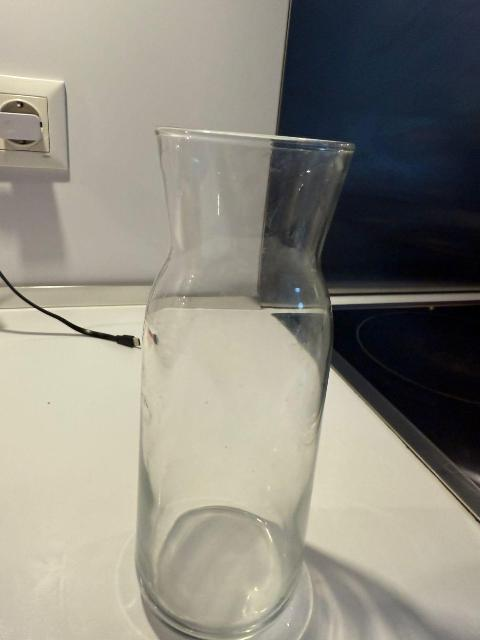Cam: (135, 120, 344, 640)
